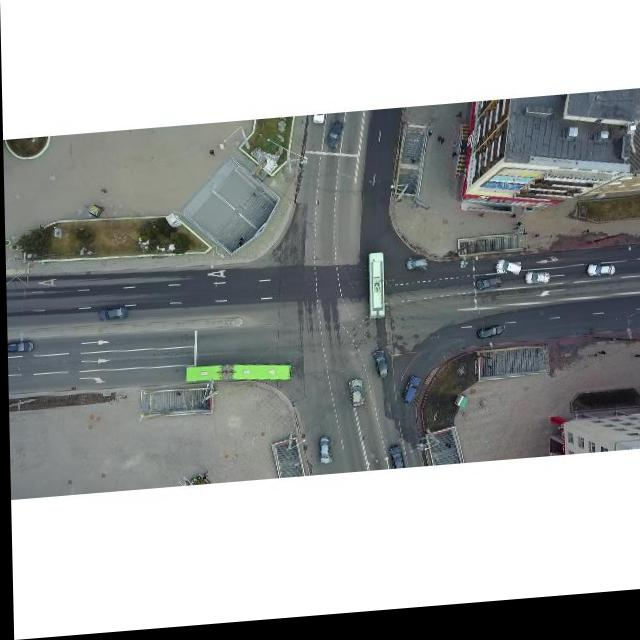vehicle: (343, 382, 366, 415), (400, 381, 419, 411), (325, 125, 343, 154), (403, 261, 427, 282), (494, 267, 521, 285), (371, 355, 387, 385), (316, 441, 331, 471), (585, 273, 614, 287), (97, 309, 126, 323), (523, 279, 548, 295), (474, 284, 501, 298), (475, 334, 502, 348)
